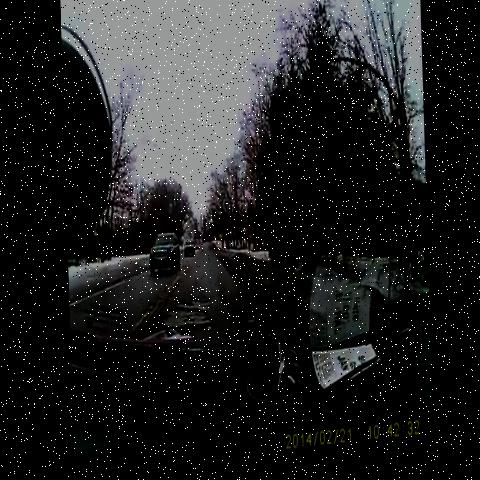pothole: (142, 295, 215, 353), (231, 302, 271, 340)
